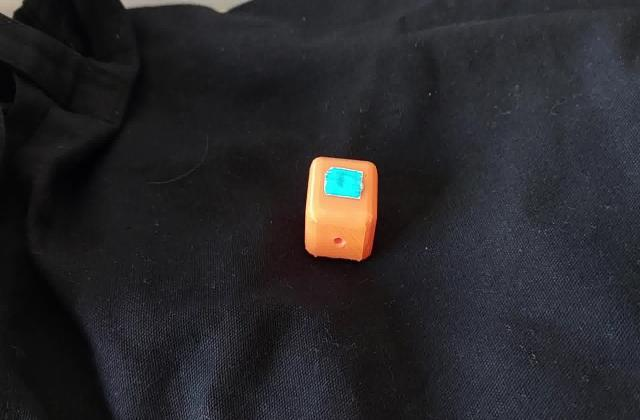blue: (332, 172, 358, 194)
sticker: (302, 154, 381, 264)
